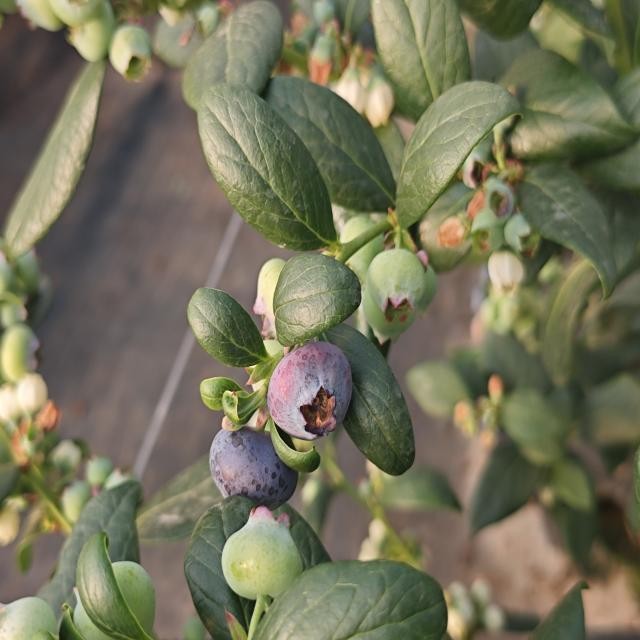ripe: (264, 339, 354, 444), (206, 424, 300, 512)
